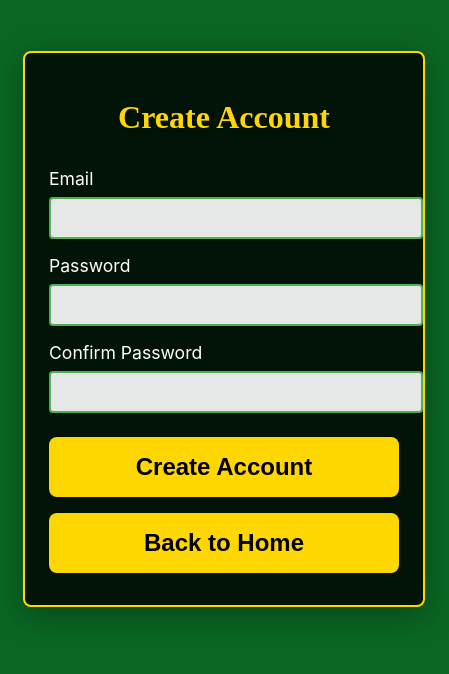
it: Register Component › shows error when passwords do not match
Type "user@example.com" into the field labelled "Email" at (236, 218), box [49,197,423,239]
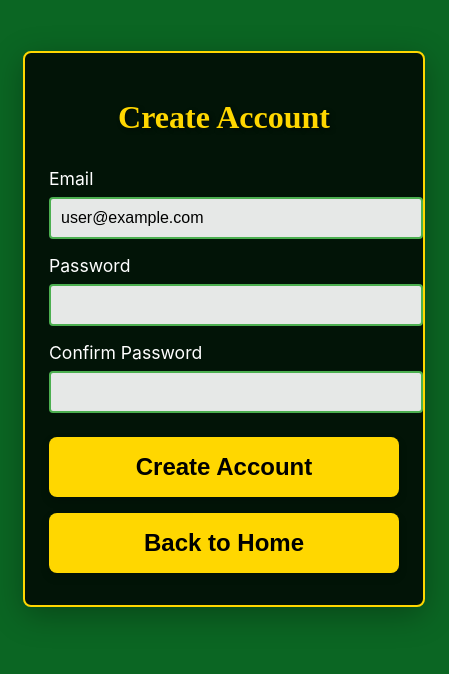
Type "pass123" into the password field labelled "Password" at (236, 305), box [49,284,423,326]
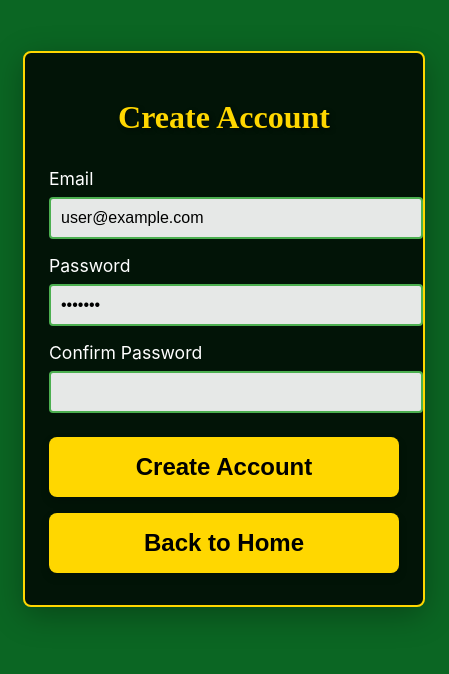
Type "wrongpass" into the password field labelled "Confirm Password" at (236, 392), box [49,371,423,413]
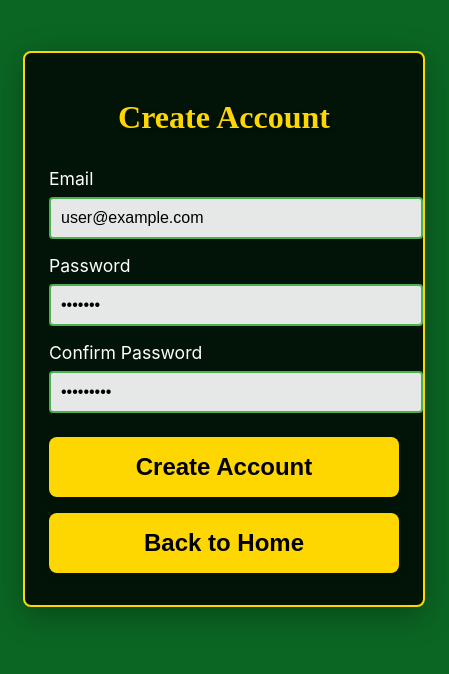
Click the button "Create Account" at (224, 467), box [49,437,399,497]
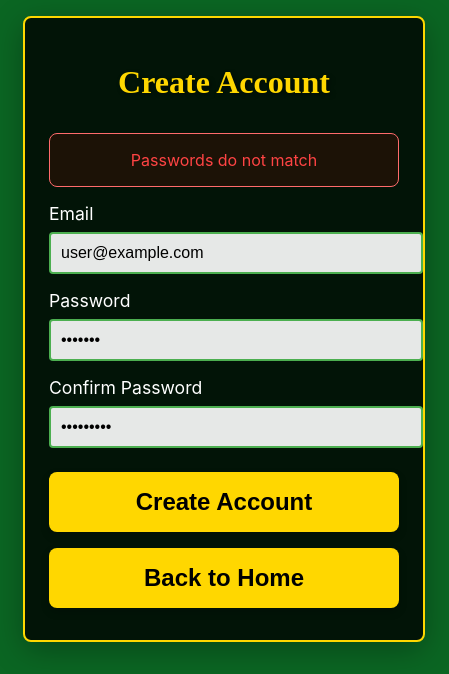
Expected: the text "Passwords do not match" is shown, [49,133,399,187]
